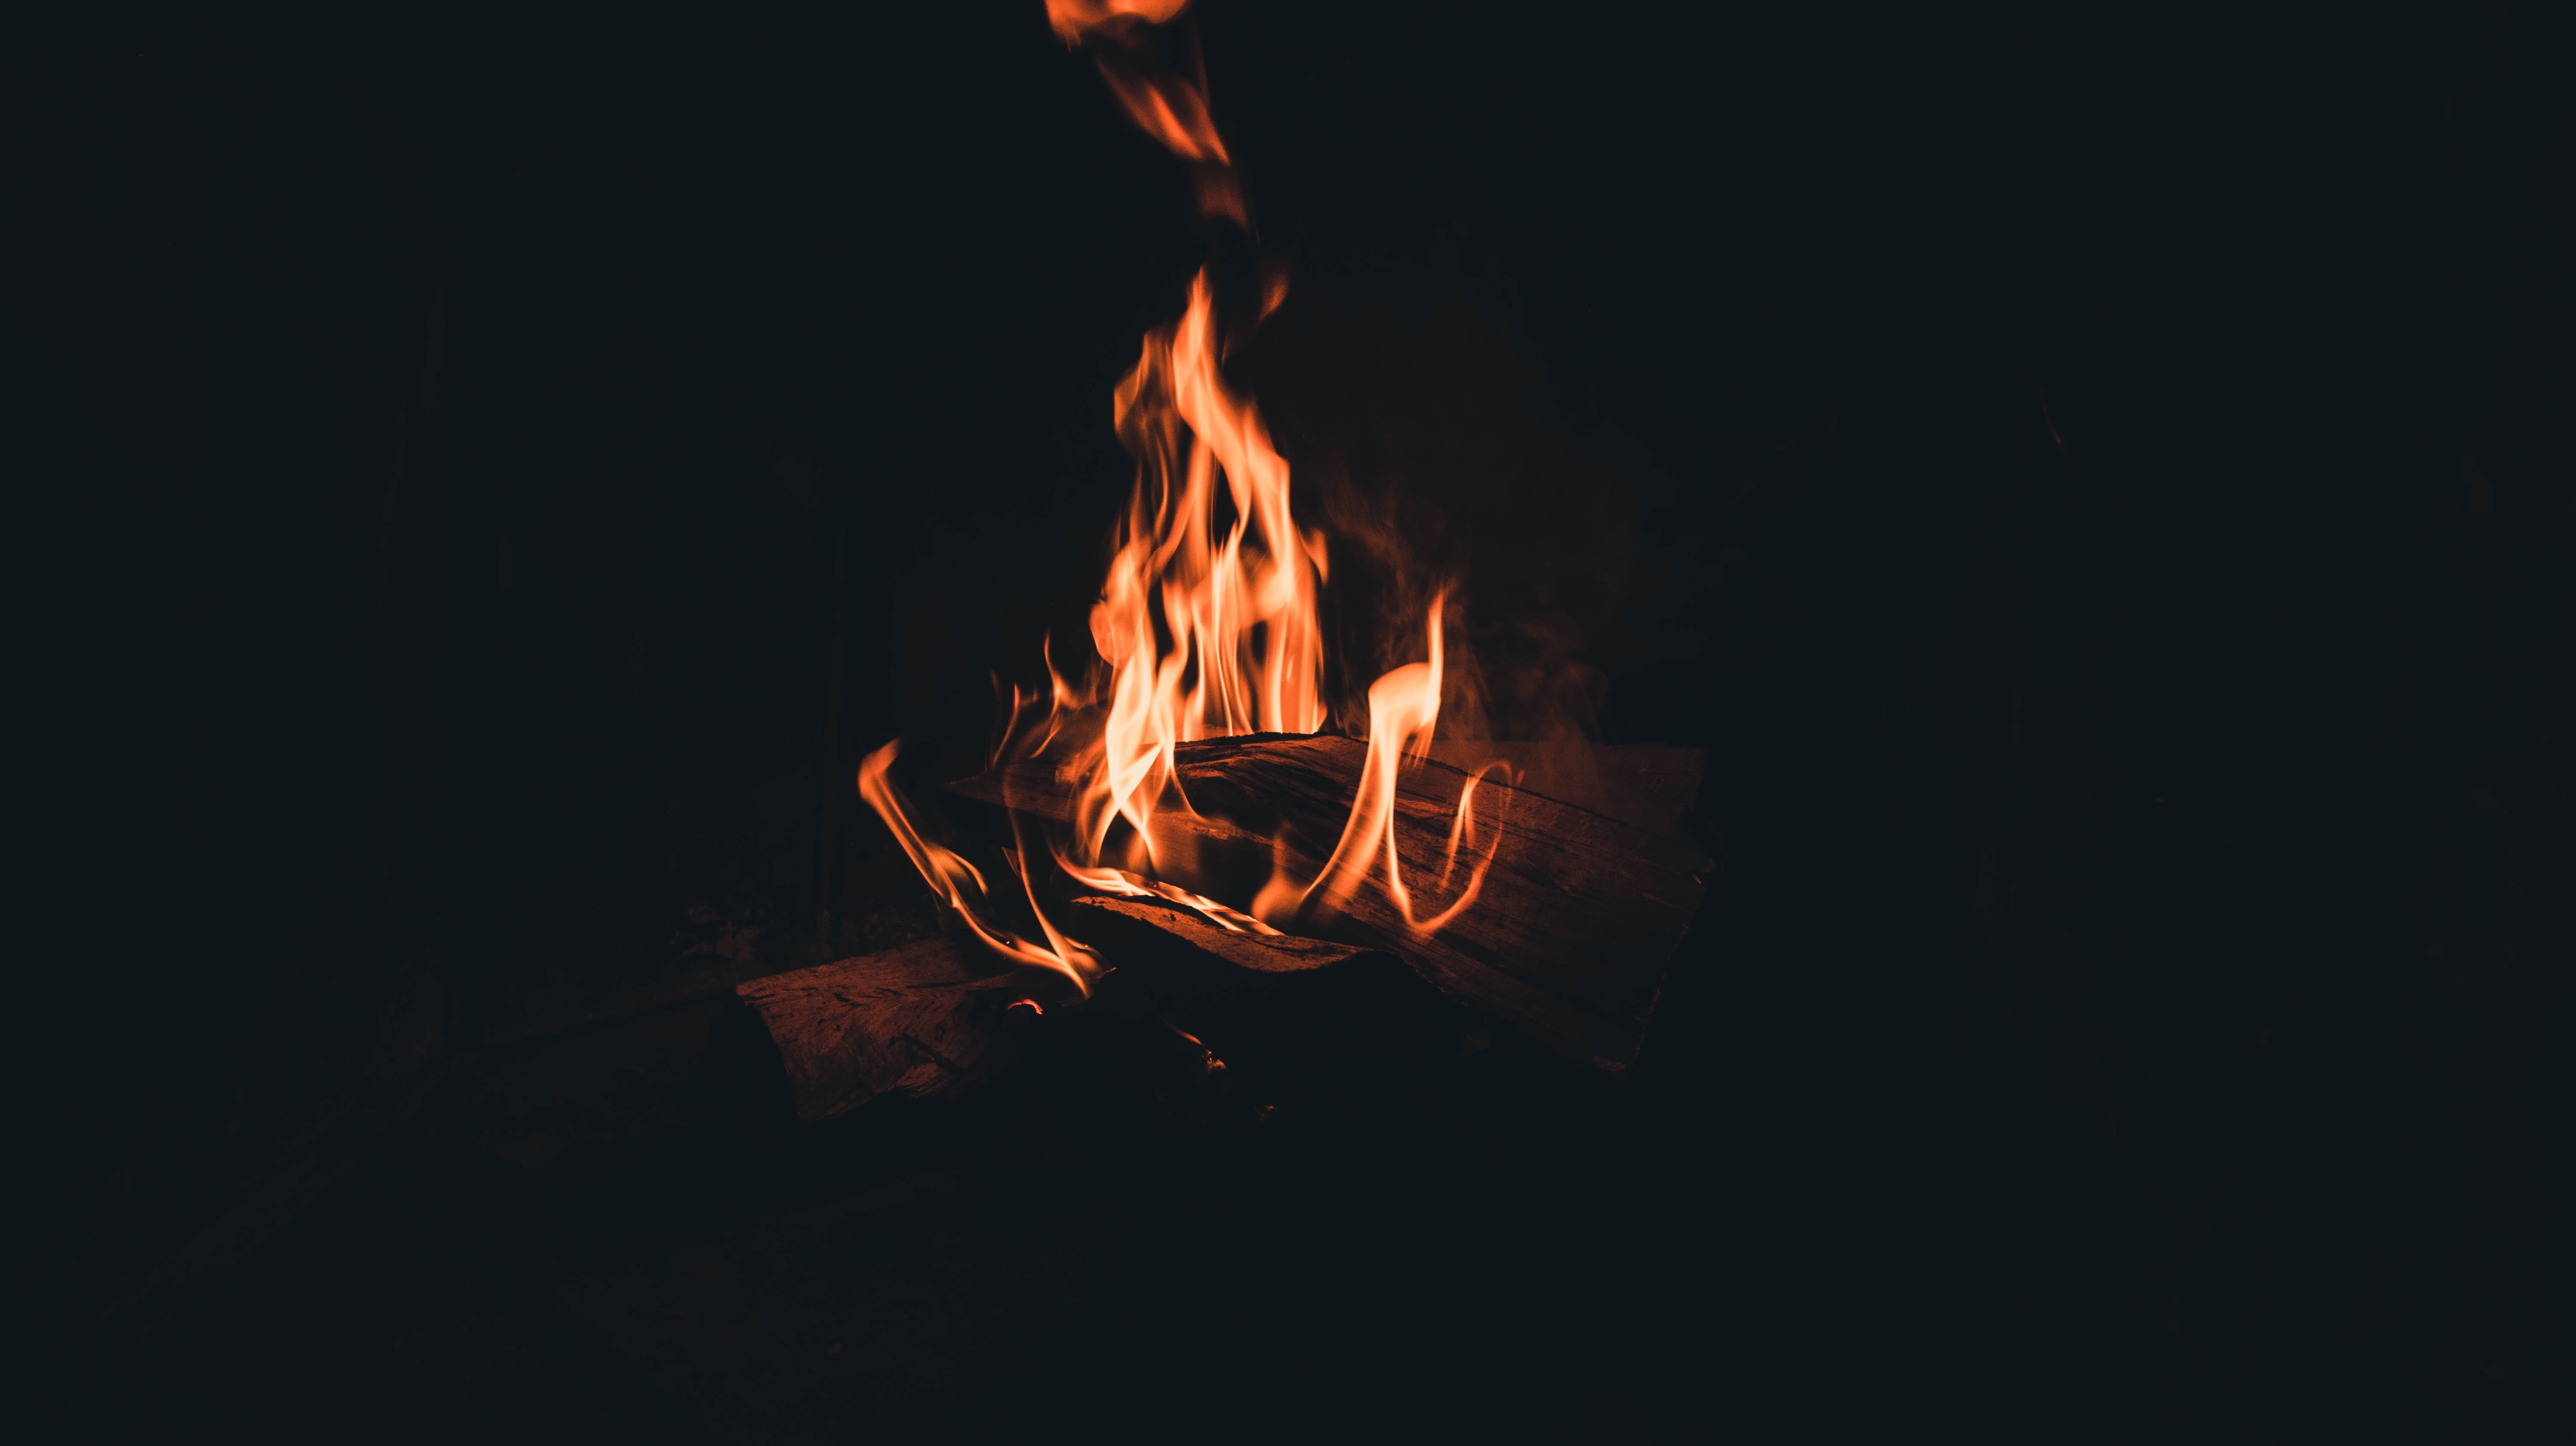fire: (819, 21, 1516, 1012)
